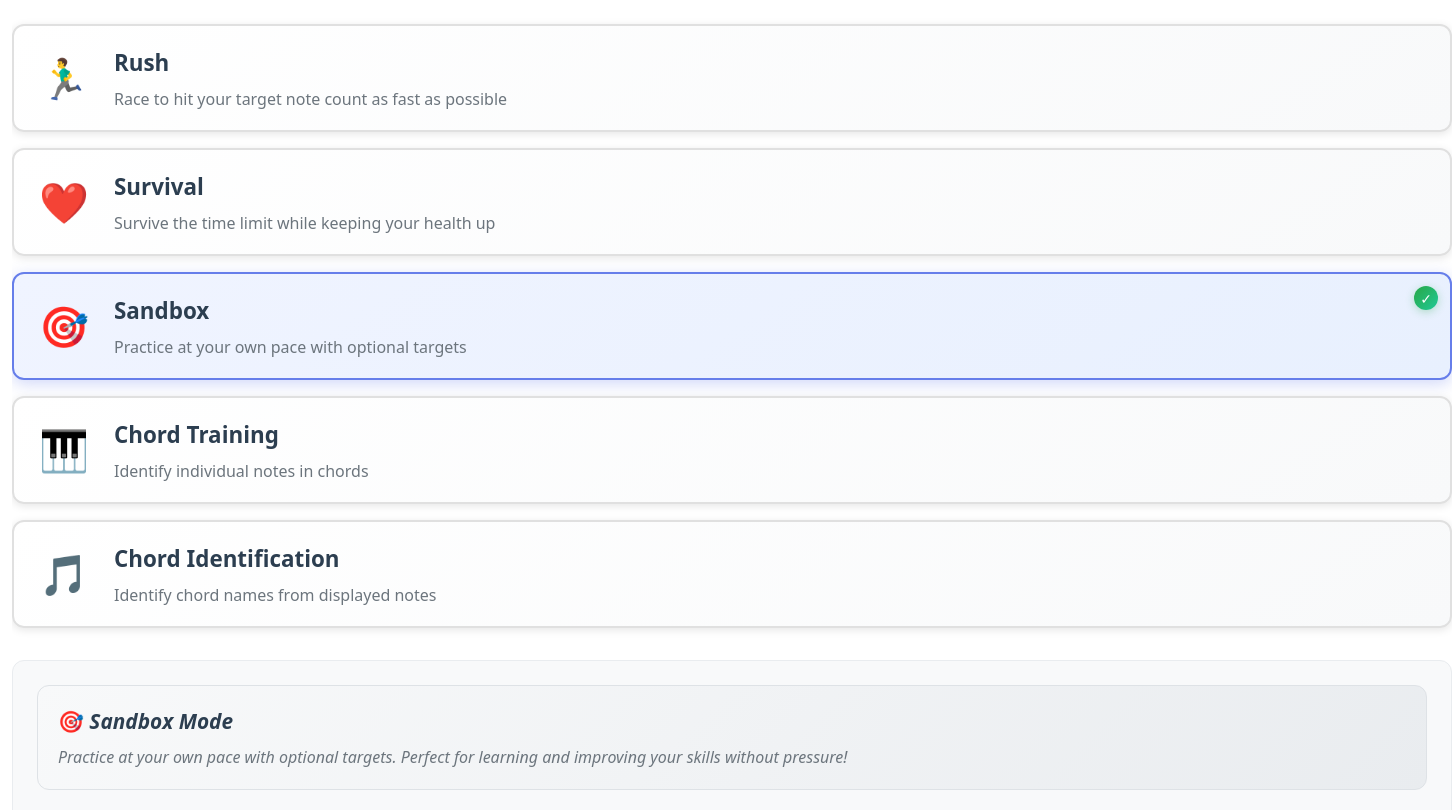
Test case: Training Type Switching Integration Test › Cross-Training Type Switching › should switch from Chord Training (note-training) to Sandbox (ear-training)
Click the text "Chord Training" at point(732, 450), box left=12, top=396, right=1451, bottom=504
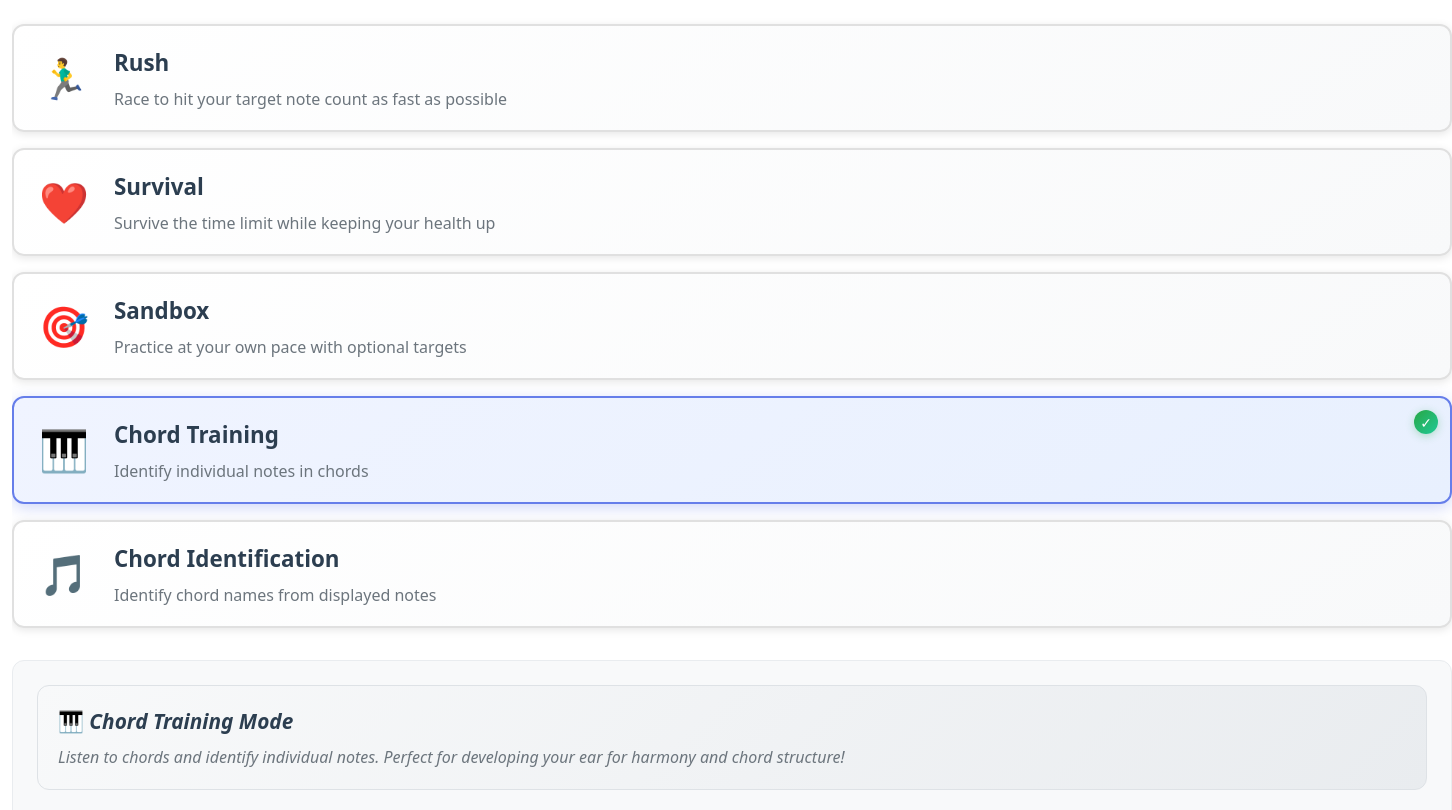
Click the text "Sandbox" at point(732, 326), box left=12, top=272, right=1451, bottom=380
(page scrolled)
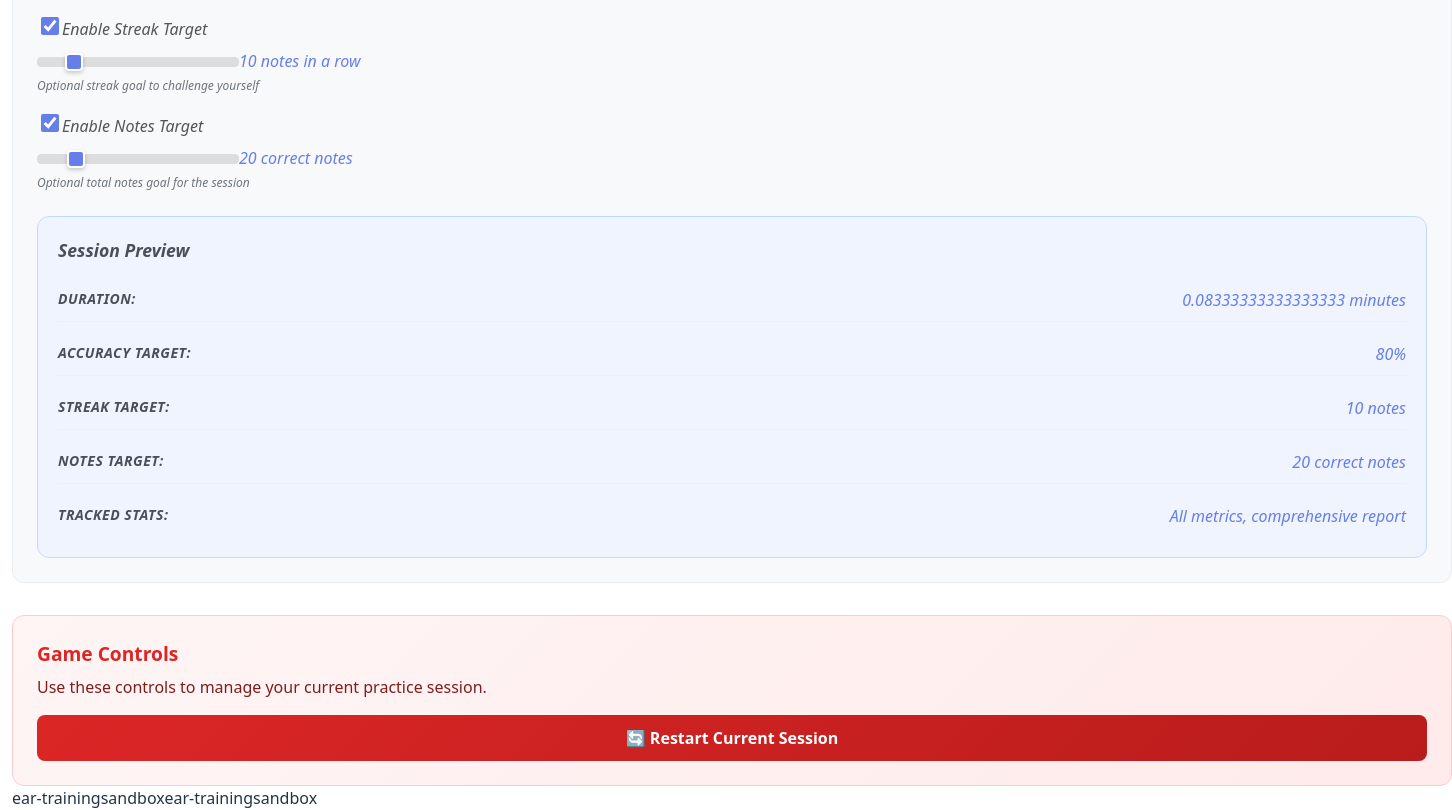
Expected: the text with test id "pending-selected-mode" reads "sandbox", left=101, top=787, right=164, bottom=809
Expected: the text with test id "pending-training-type" reads "ear-training", left=12, top=787, right=101, bottom=809
